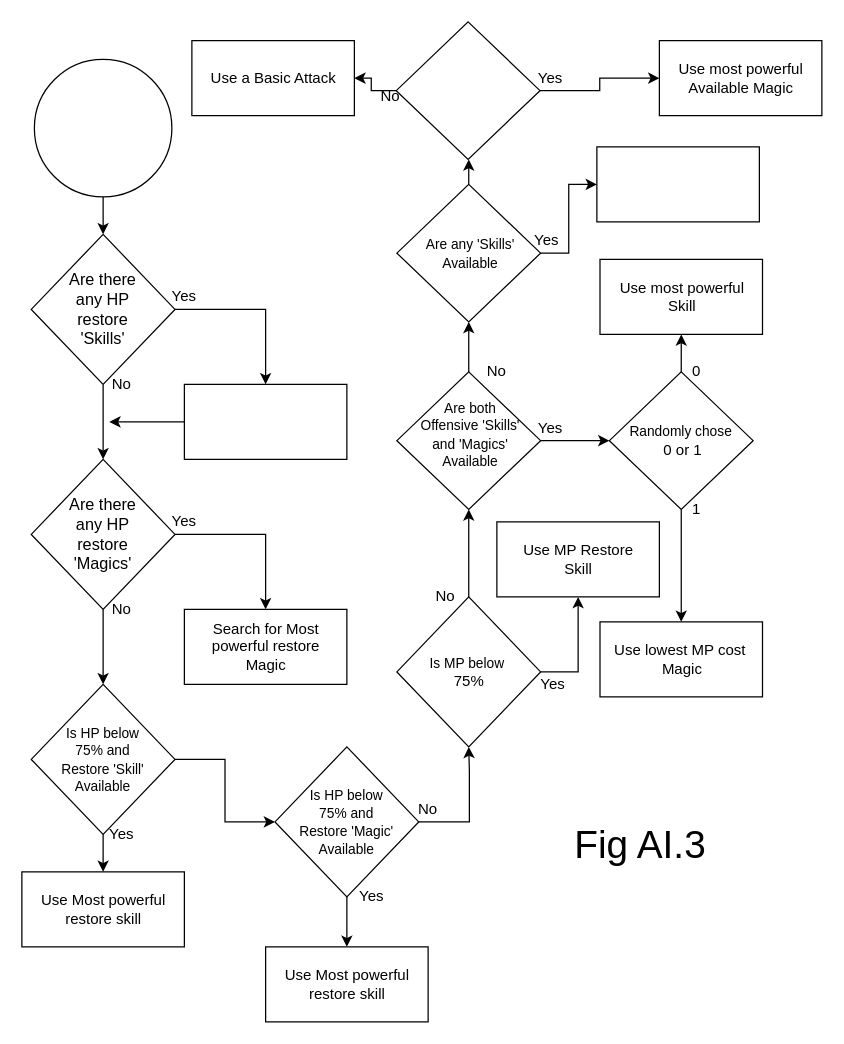
Some shapes in this 844 by 1044 pixel diagram are drawn without their labels. The centre of each missing label's shape, as x and y in pixels:
Are any 'Magics' Available: point 467,90
Search for Most powerful restore skill: point 265,421
Start Defensive Decision: point 102,127
Use most powerful Available Skill: point 677,184
